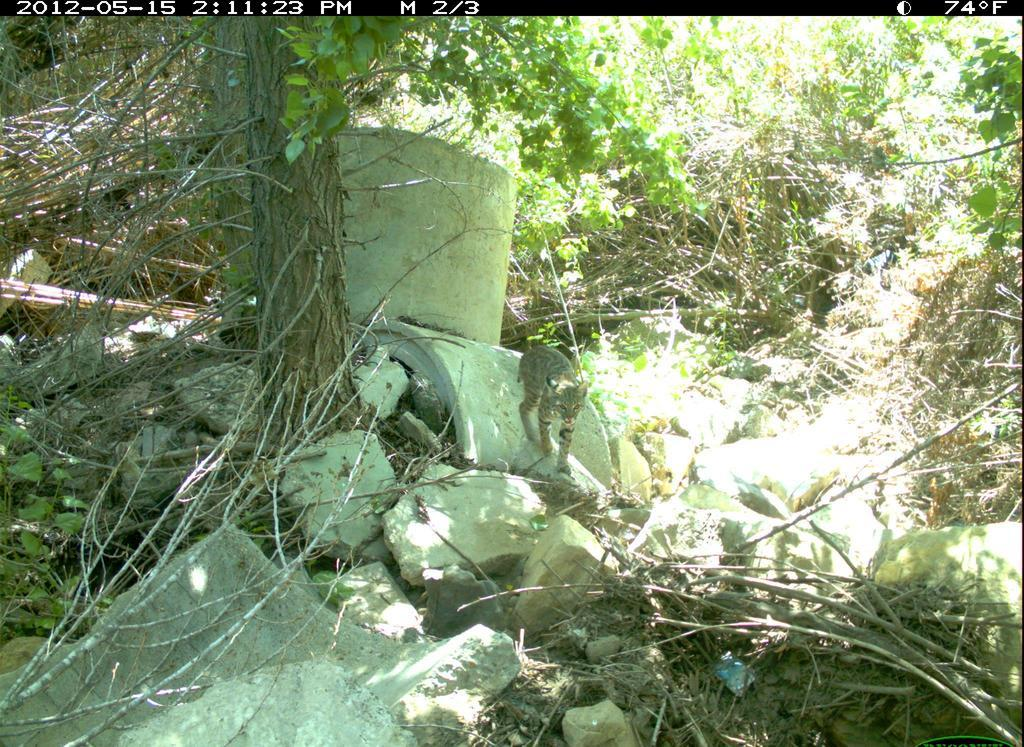bobcat: (513, 336, 593, 478)
